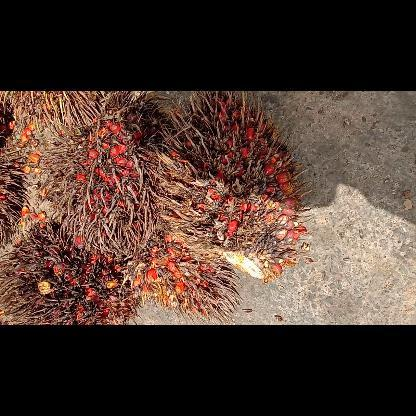Terlalu masak: (150, 91, 318, 285), (41, 100, 197, 264), (0, 217, 145, 325), (122, 220, 244, 324)
